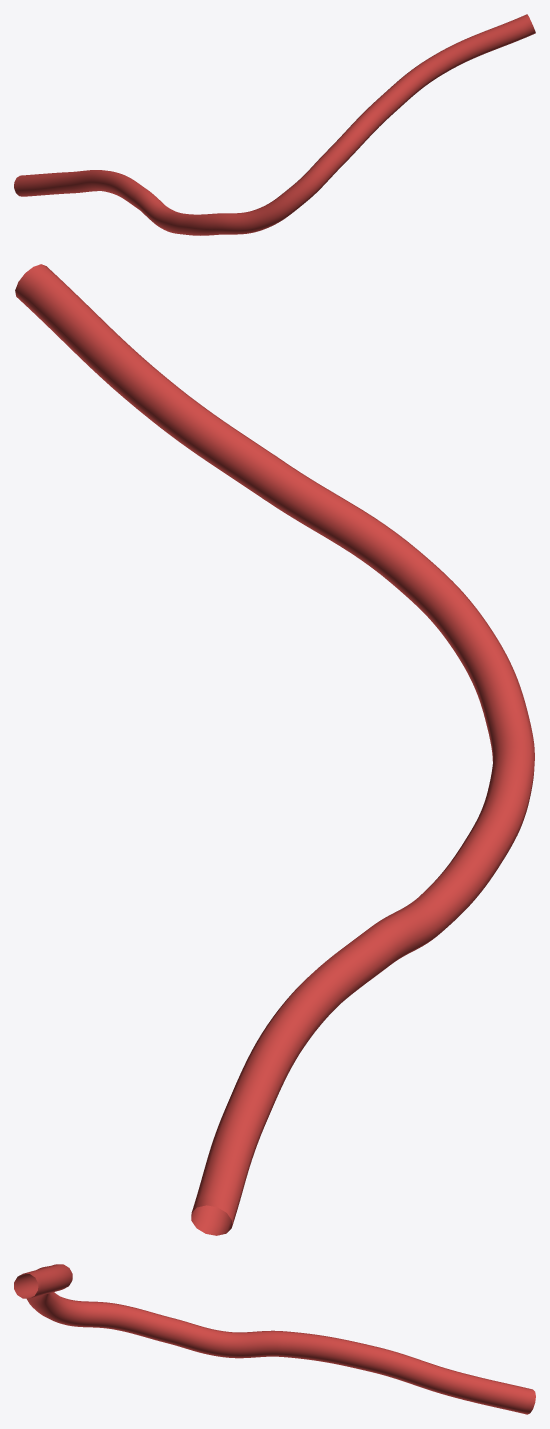
3 views of the same model, one above another, from view 1: azimuth 30°, elevation 25°; view 2: azimuth 150°, elevation 25°; view 3: azimuth 270°, elevation 25° (orthographic). The views are drawn at different scales.
Visible parts, largest first — view 1: 左侧腭降动脉; view 2: 左侧腭降动脉; view 3: 左侧腭降动脉.
Boxes of the visible parts, x1=… form: 左侧腭降动脉: x1=14, y1=14, x2=535, y2=235; 左侧腭降动脉: x1=15, y1=264, x2=534, y2=1235; 左侧腭降动脉: x1=14, y1=1264, x2=535, y2=1414.
Bounding box in the file's own units: 0.0247 × 0.0197 × 0.0297.
